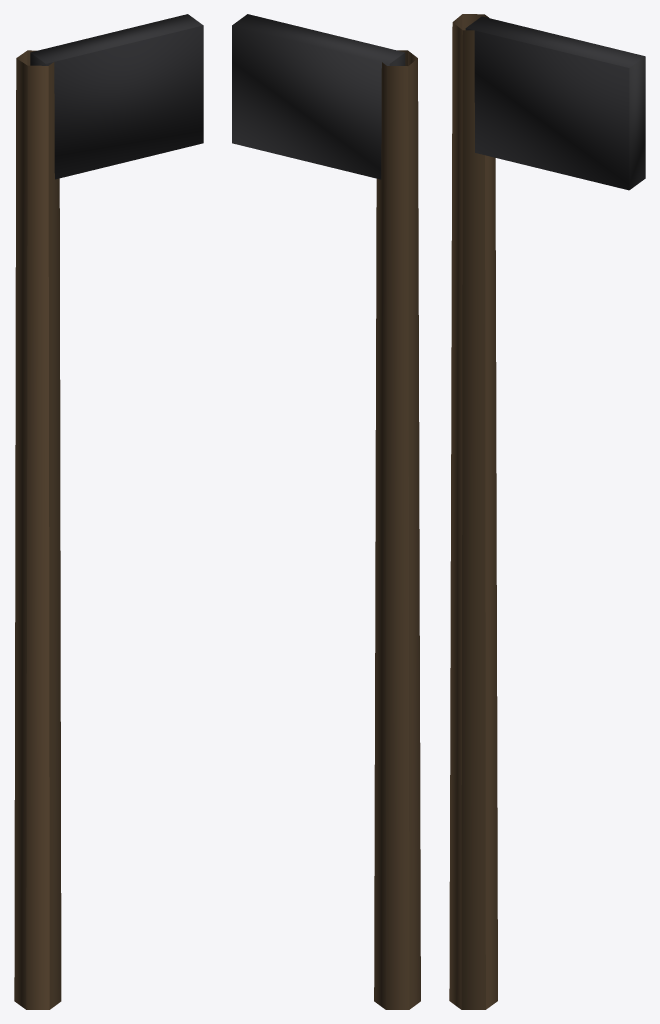
The model's file is scure.glb.
3 views of the same model, side by side, from view 1: azimuth 30°, elevation 25°; view 2: azimuth 150°, elevation 25°; view 3: azimuth 330°, elevation 25° (orthographic). The views are drawn at different scales.
Visible parts, largest first — view 1: scure; view 2: scure; view 3: scure.
Part boxes in pixels (left/top/right/bottom): scure: left=14, top=14, right=203, bottom=1009; scure: left=232, top=14, right=420, bottom=1009; scure: left=449, top=14, right=645, bottom=1009.
Bounding box in the file's own units: 0.1557 × 0.8 × 0.0361.
